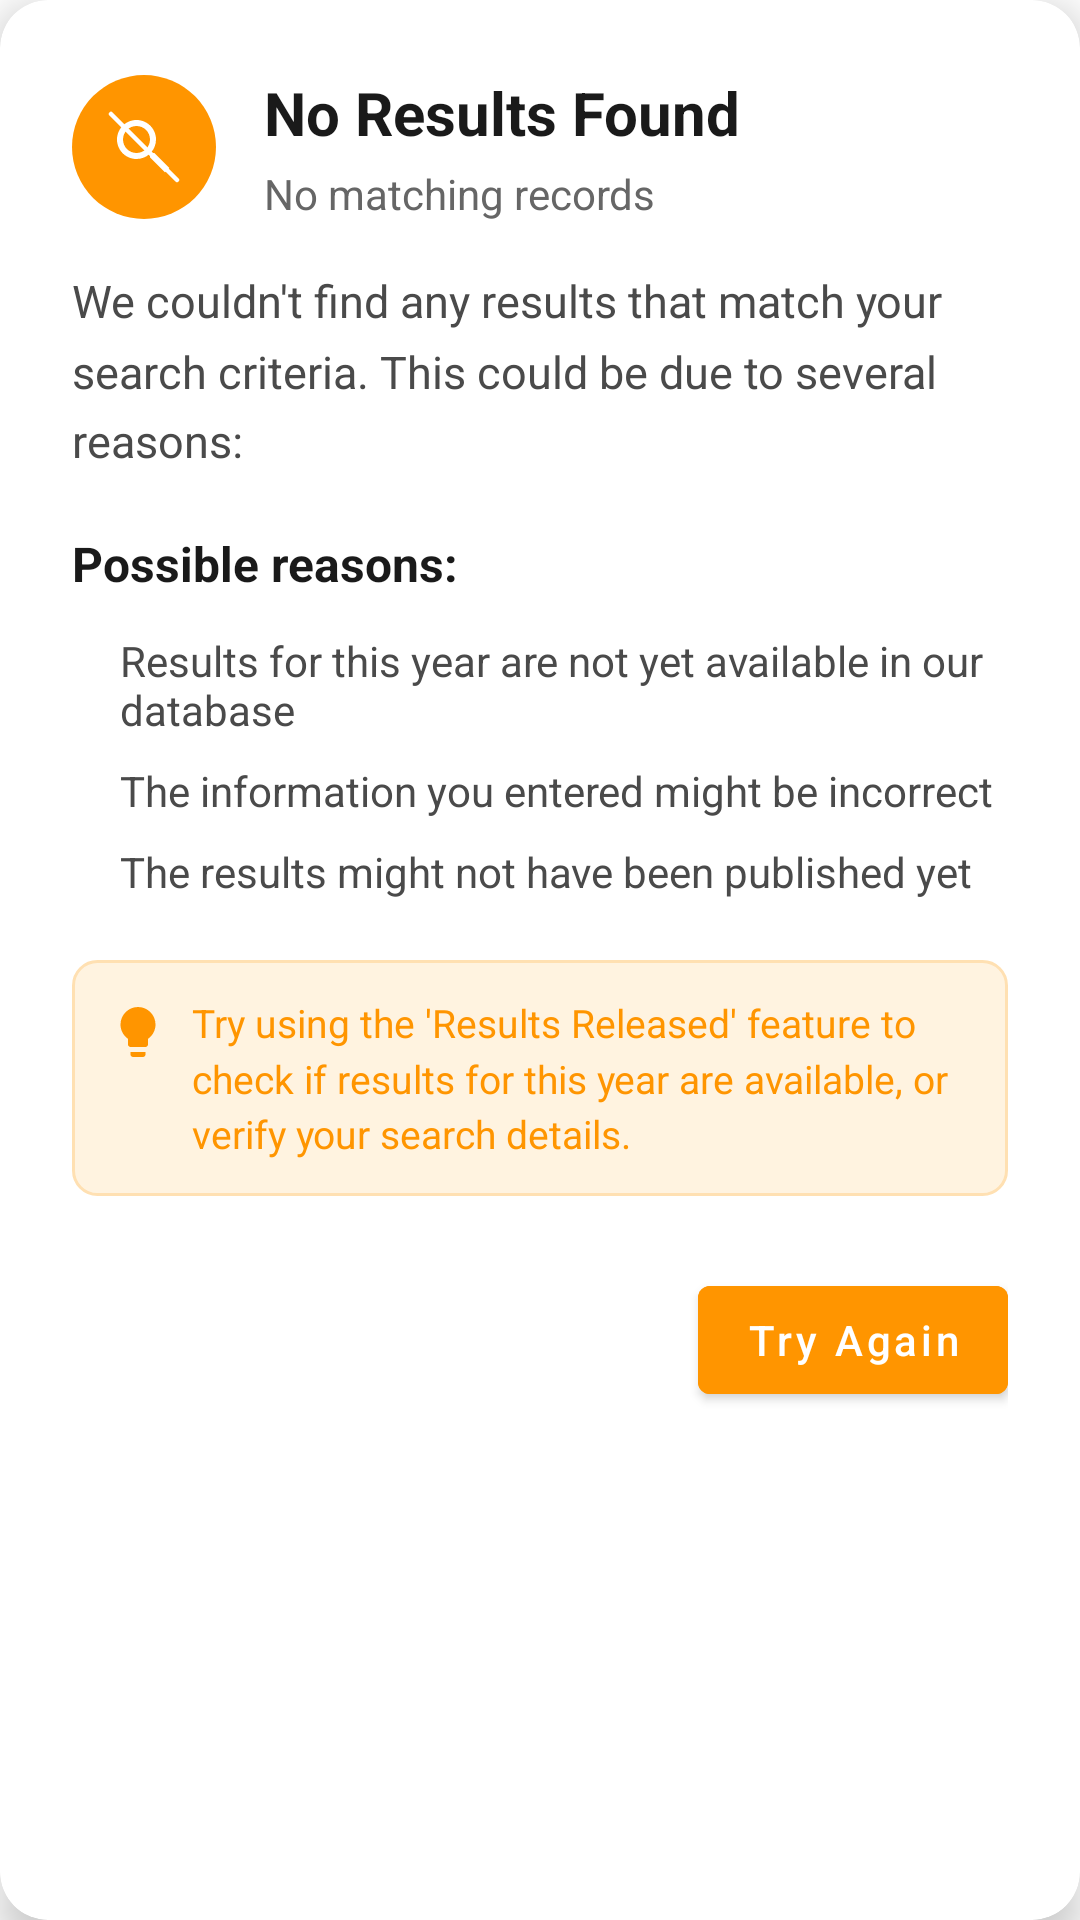

Icon bounding boxes for this 1080 x 1920 phone screenshot, format bbox=[x1, y1, x2, y2]:
lightbulb: bbox=[120, 1007, 156, 1057]
search off: bbox=[72, 75, 216, 219]
